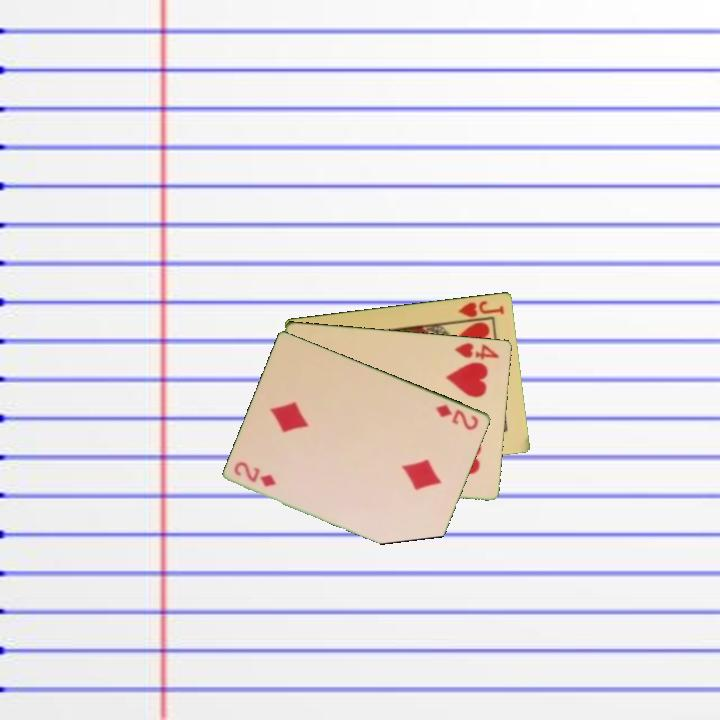2d: (433, 401, 482, 433), (231, 458, 279, 490)
4h: (451, 339, 502, 362)
Jh: (455, 297, 507, 320)
